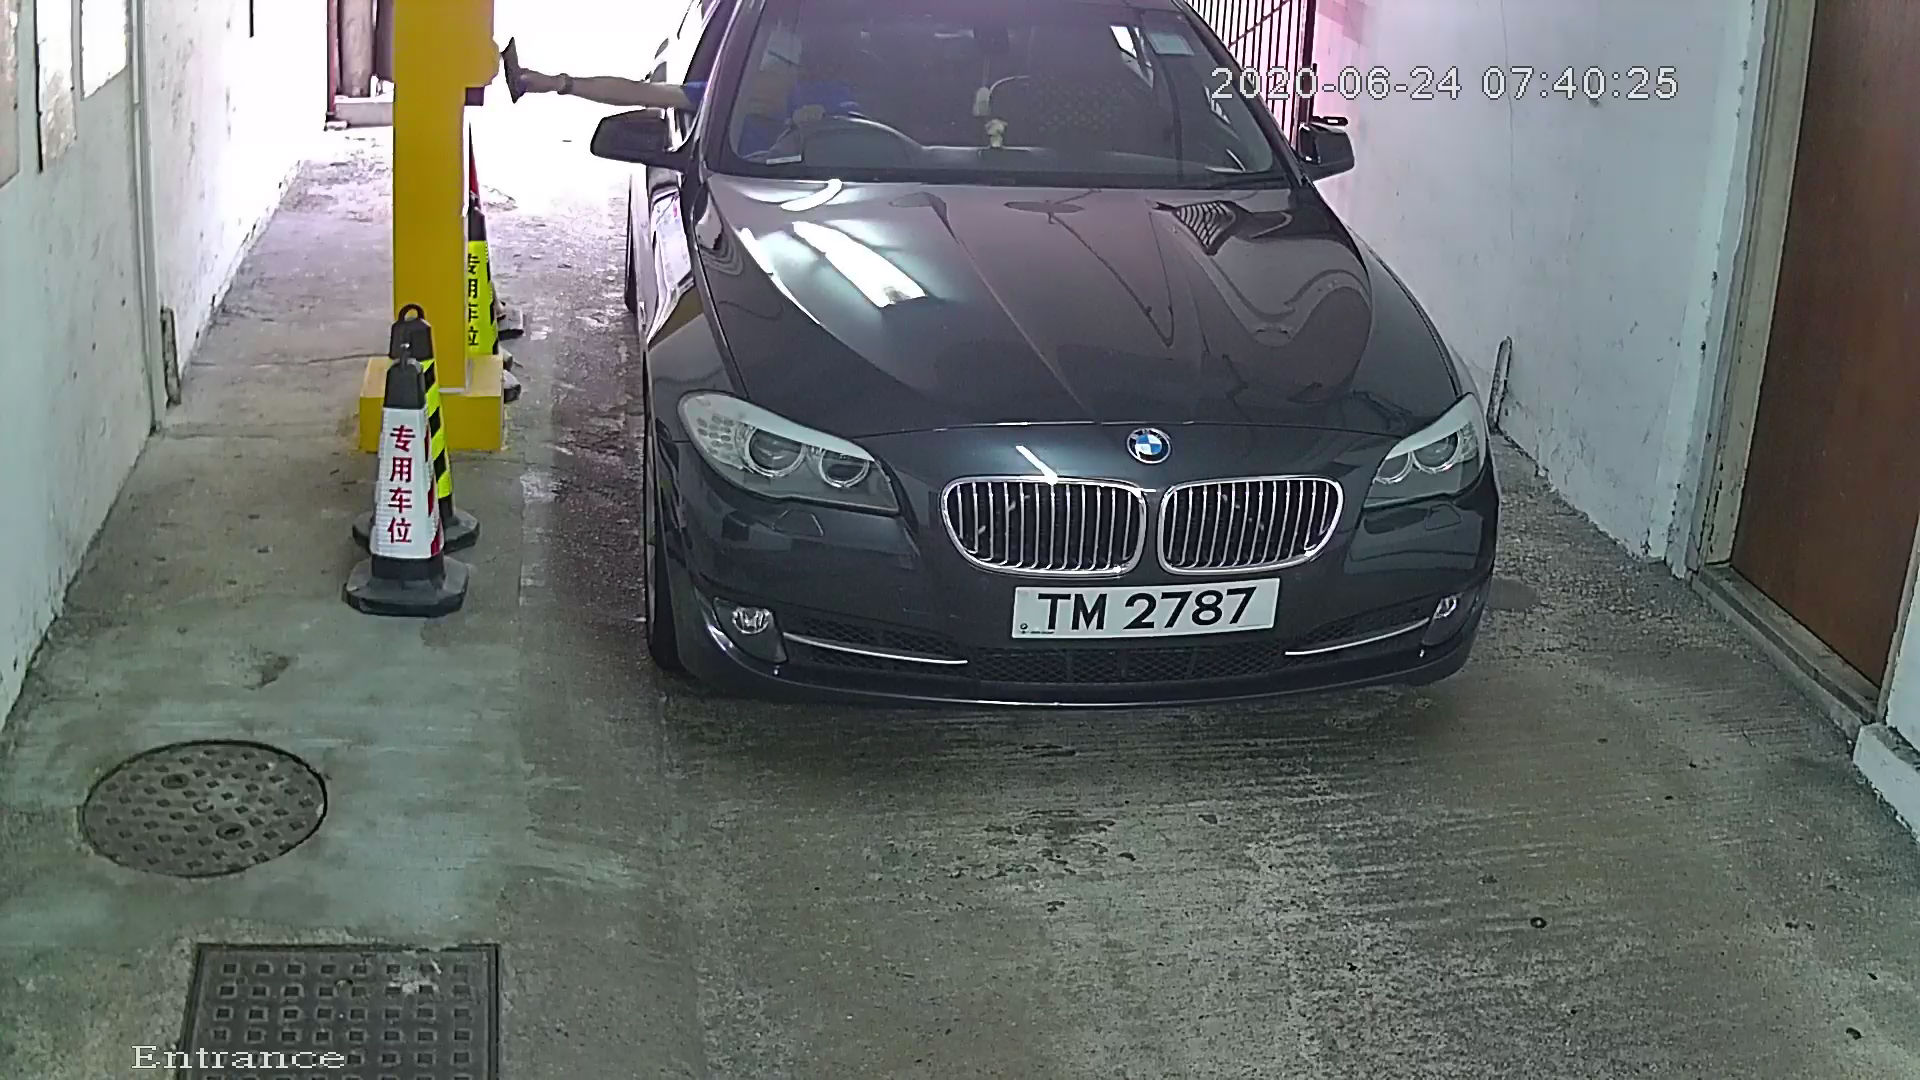privatecar: (587, 3, 1526, 765)
